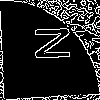N: (25, 25, 71, 62)
